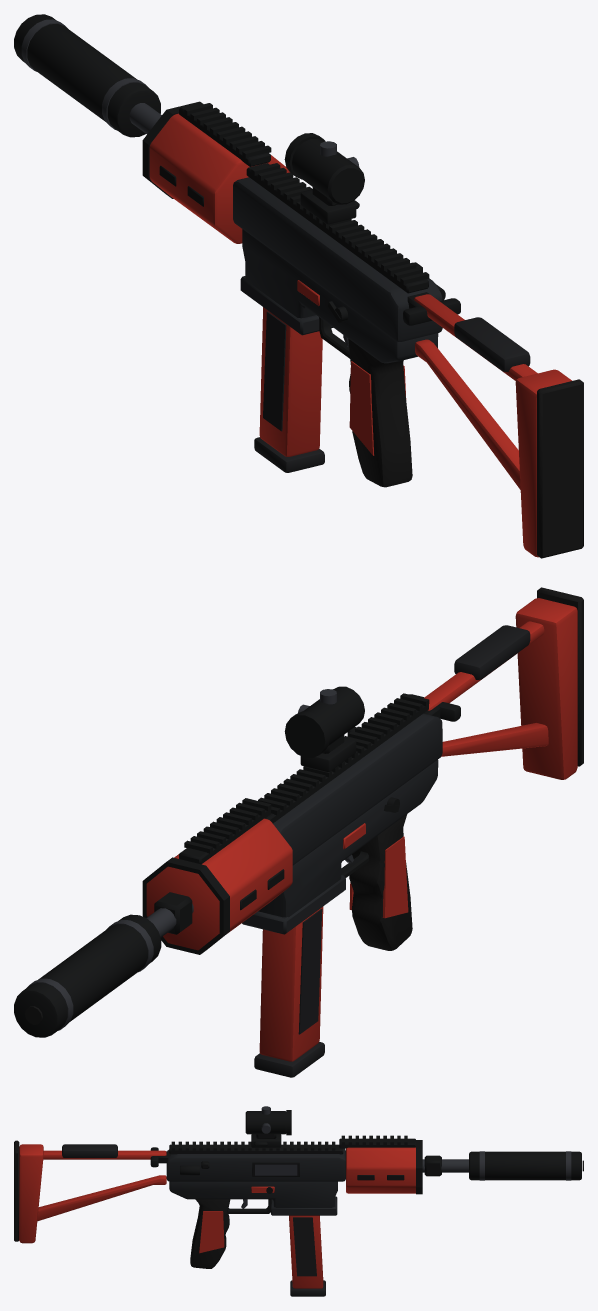
The model's file is gun_28.glb.
3 views of the same model, one above another, from view 1: azimuth 30°, elevation 25°; view 2: azimuth 150°, elevation 25°; view 3: azimuth 270°, elevation 25° (orthographic). The views are drawn at different scales.
Visible parts, largest first — view 1: gun_28; view 2: gun_28; view 3: gun_28.
Part boxes in pixels (box(x1,y1,x2,y2)): gun_28: box(14, 14, 583, 558); gun_28: box(14, 587, 583, 1077); gun_28: box(14, 1106, 583, 1296).
Bounding box in the file's own units: 0.0765 × 0.3055 × 0.8585.
